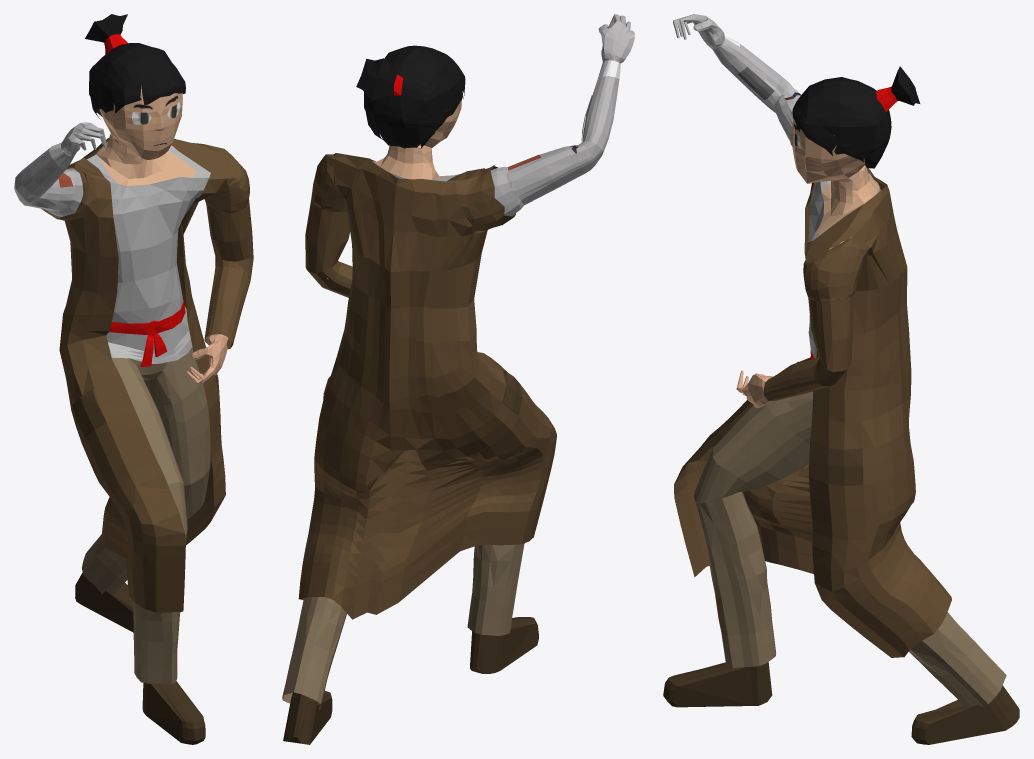
Rendered from Special_Attack_000007.obj.
3 renders of one model, left to right at view 1: azimuth 30°, elevation 25°; view 2: azimuth 150°, elevation 25°; view 3: azimuth 270°, elevation 25°, orthographic. The views are drawn at different scales.
Visible parts, largest first — view 1: Hair_Cube.004; view 2: Hair_Cube.004; view 3: Hair_Cube.004.
Part boxes in pixels (x1,y1,x2,y2): Hair_Cube.004: (14, 14, 253, 744); Hair_Cube.004: (282, 14, 634, 744); Hair_Cube.004: (663, 14, 1019, 744).
Bounding box in the file's own units: 1.57 × 3.67 × 1.83.
